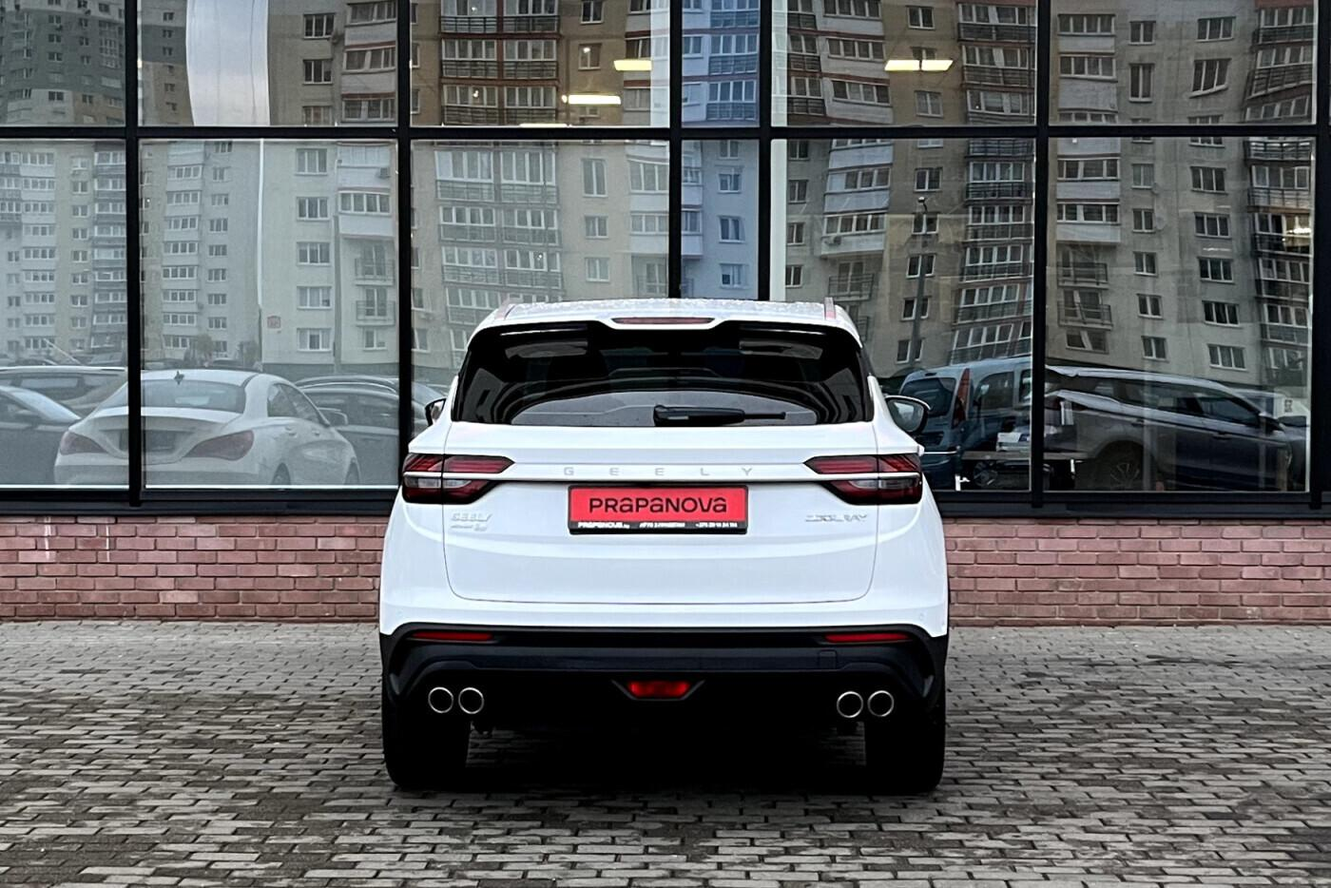Coolray_2019-2023: (371, 289, 964, 806)
